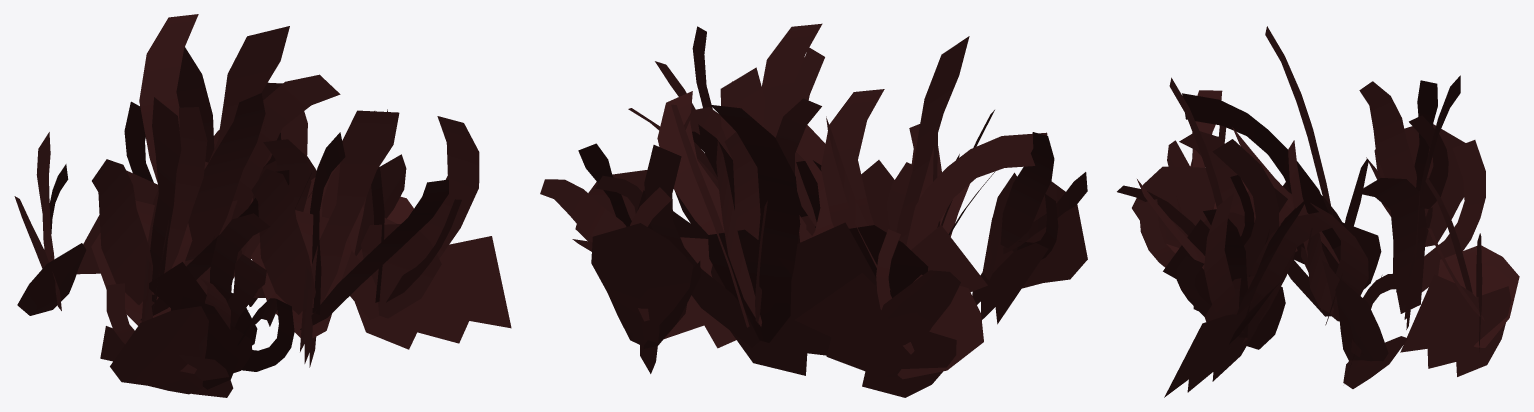
File: SM_ocean_scatterPlant_03_B.fbx
3 views of the same model, side by side, from view 1: azimuth 30°, elevation 25°; view 2: azimuth 150°, elevation 25°; view 3: azimuth 270°, elevation 25° (orthographic). The views are drawn at different scales.
Parts seen in each view (by area): view 1: SM_ocean_scatterPlant_03_B_LOD0; view 2: SM_ocean_scatterPlant_03_B_LOD0; view 3: SM_ocean_scatterPlant_03_B_LOD0.
Boxes of the visible parts, bbox=[...] form: SM_ocean_scatterPlant_03_B_LOD0: bbox=[14, 14, 511, 397]; SM_ocean_scatterPlant_03_B_LOD0: bbox=[540, 23, 1087, 397]; SM_ocean_scatterPlant_03_B_LOD0: bbox=[1117, 26, 1519, 397].
Size of what is drawn, in the model's own units: 27.3 by 23.74 by 17.9.
